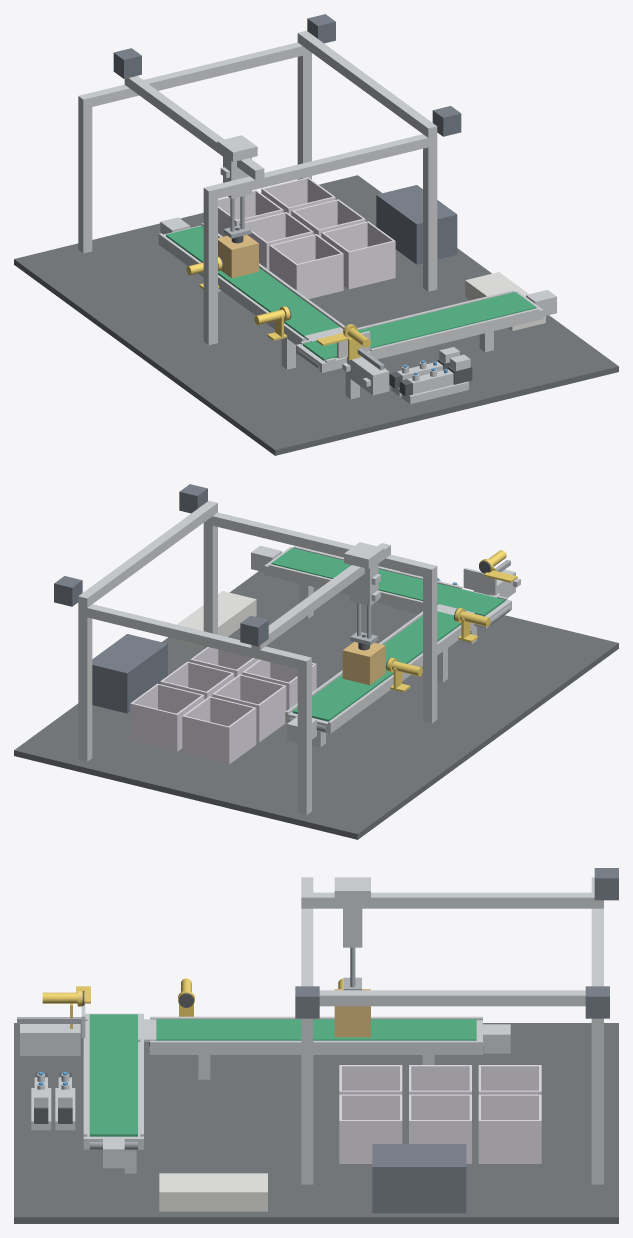
File: production_twin_v5_pick.glb
3 views of the same model, one above another, from view 1: azimuth 30°, elevation 25°; view 2: azimuth 150°, elevation 25°; view 3: azimuth 270°, elevation 25° (orthographic). The views are drawn at different scales.
Visible parts, largest first — view 1: production_twin_v5_pick (×10); view 2: production_twin_v5_pick (×9); view 3: production_twin_v5_pick (×10).
Boxes of the visible parts, x1=… form: production_twin_v5_pick (×10): x1=14, y1=14, x2=618, y2=455; production_twin_v5_pick (×9): x1=14, y1=484, x2=618, y2=839; production_twin_v5_pick (×10): x1=14, y1=868, x2=618, y2=1223.
Bounding box in the file's own units: 0.76 × 0.397 × 1.
